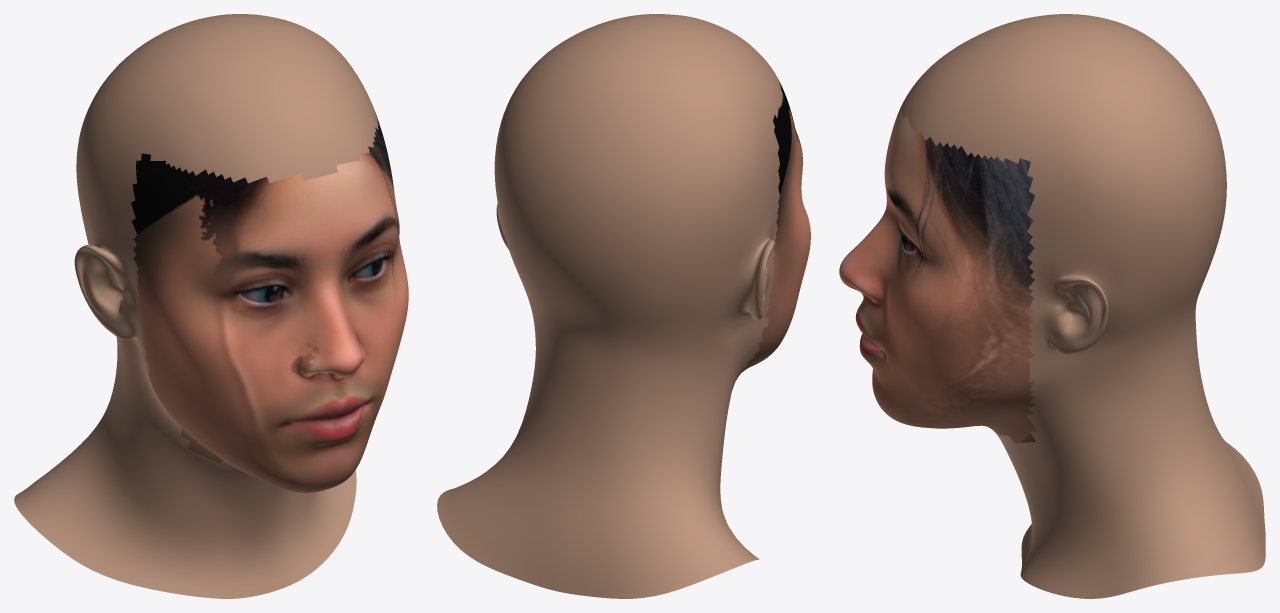
The model's file is face_head.glb.
The picture shows the model from 3 angles, left to right: view 1: azimuth 30°, elevation 25°; view 2: azimuth 150°, elevation 25°; view 3: azimuth 270°, elevation 25°; orthographic projection. The views are drawn at different scales.
Parts seen in each view (by area): view 1: FBHead; view 2: FBHead; view 3: FBHead.
Part boxes in pixels (x1,y1,x2,y2): FBHead: (14,14,408,598); FBHead: (437,14,810,598); FBHead: (839,14,1265,598).
Size of the model in its own units: 1.74 by 2.86 by 2.07.
2 materials, 1 textured.
